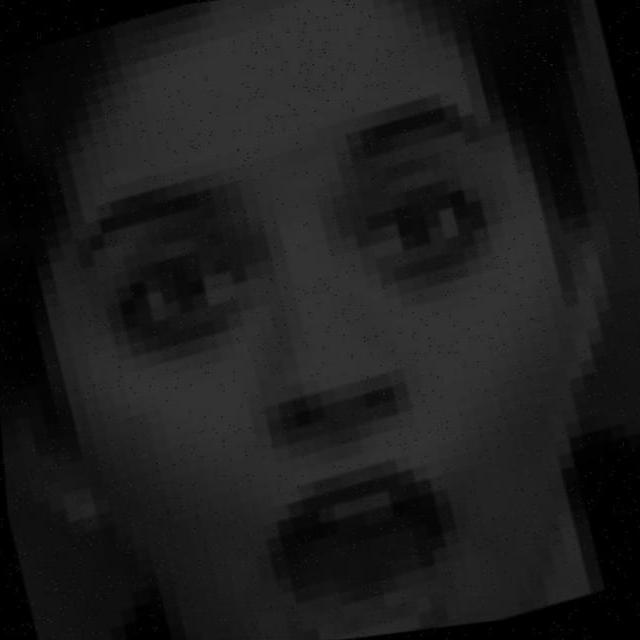Surprised: (83, 36, 563, 640)
